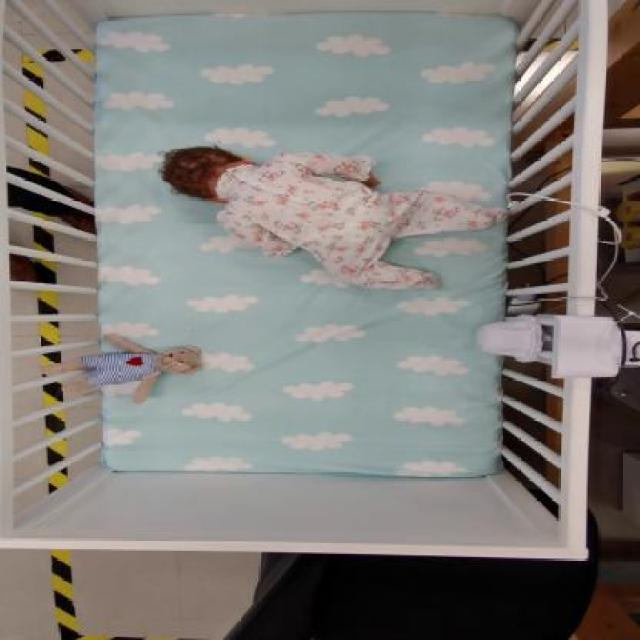baby: (156, 144, 510, 290)
